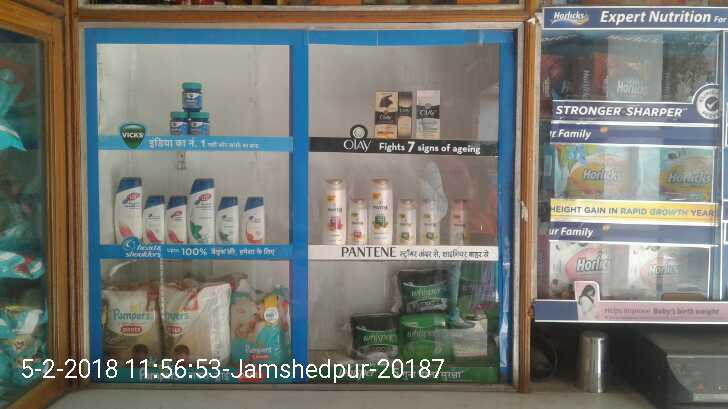vicks: (169, 77, 212, 138)
